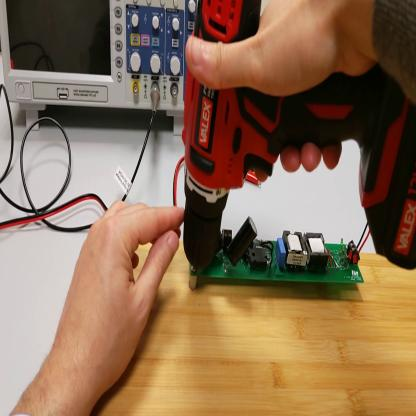electric screwdriver: (184, 1, 416, 279)
hand: (190, 2, 380, 175), (56, 197, 184, 395)
high voltage board: (190, 220, 374, 292)
oscilloscope: (2, 2, 201, 136)
working area: (91, 235, 416, 416)
